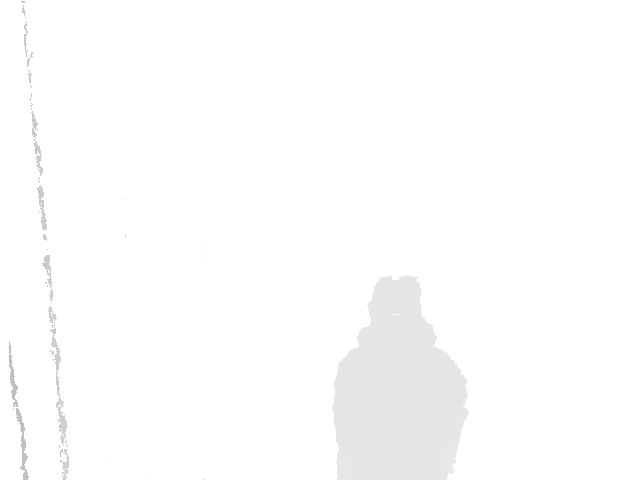head: (359, 276, 438, 356)
person: (331, 276, 468, 480)
